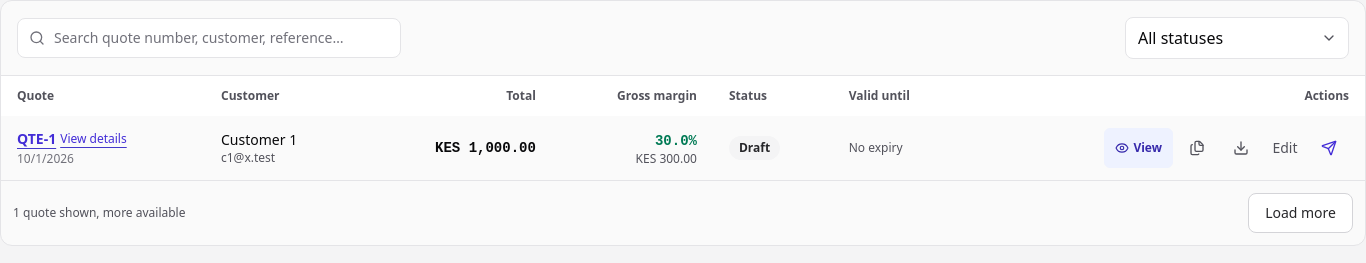
Test: the quotes table › keeps what is shown and says why when a later page fails
Click the button "Load more" at (1301, 213), box [1248, 193, 1353, 233]
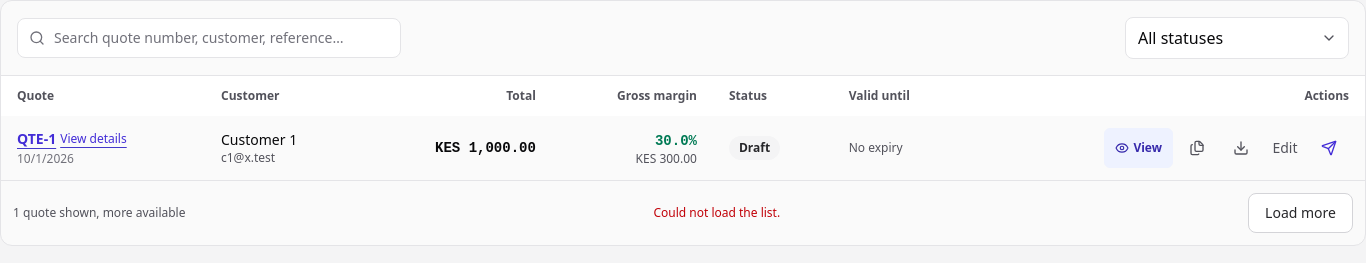
Expected: the button "QTE-1 View details" is shown, [17, 129, 127, 149]
Now the text "Could not load the list." is shown, box [653, 205, 780, 221]
